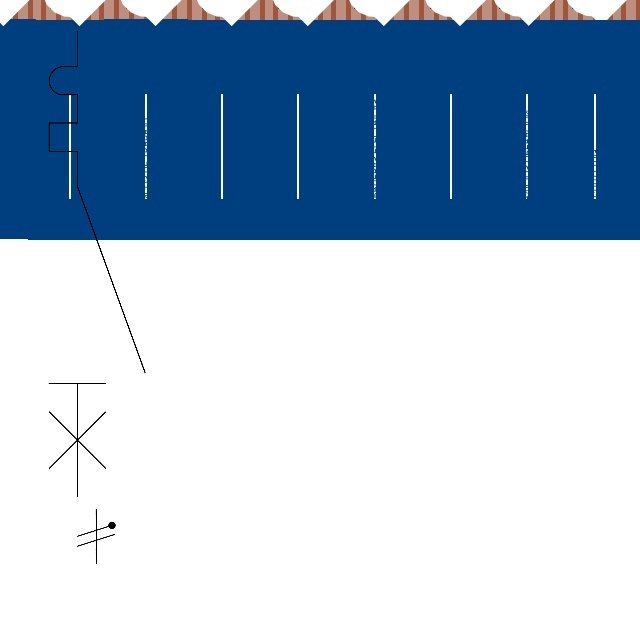interruptor_termomagnetico: (37, 19, 157, 508)
